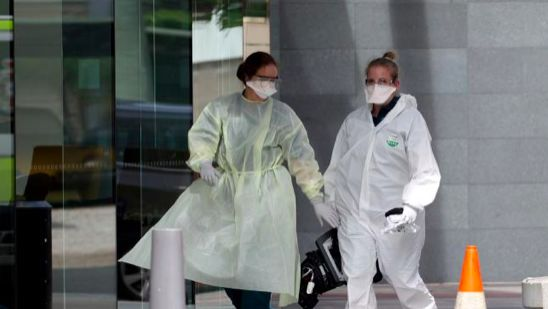mask: (244, 63, 284, 106), (368, 60, 397, 112)
